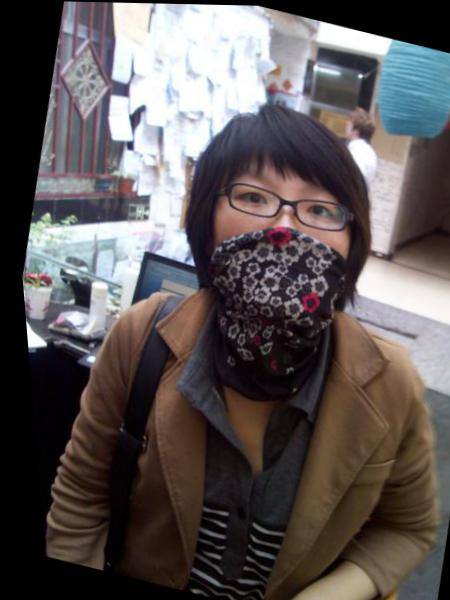WRONG: (179, 154, 383, 350)
